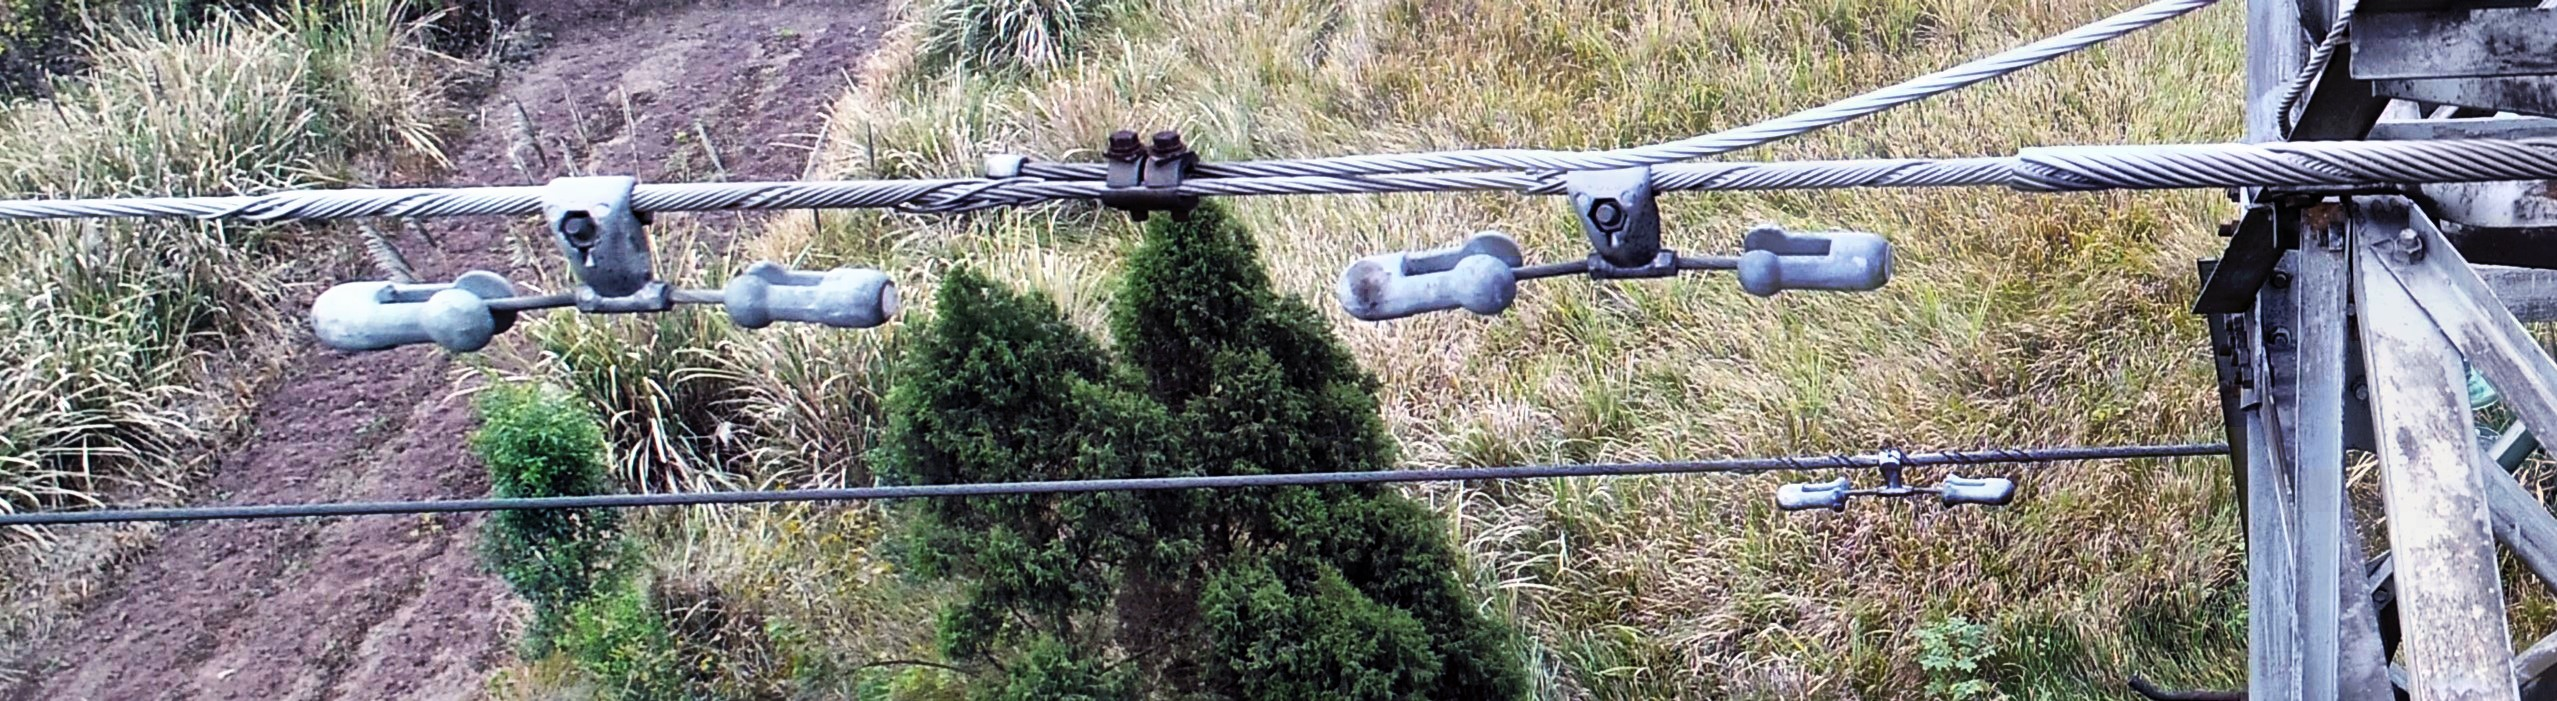Shockproof hammer: (292, 153, 915, 365), (1331, 143, 1901, 326), (1758, 424, 2034, 522)
